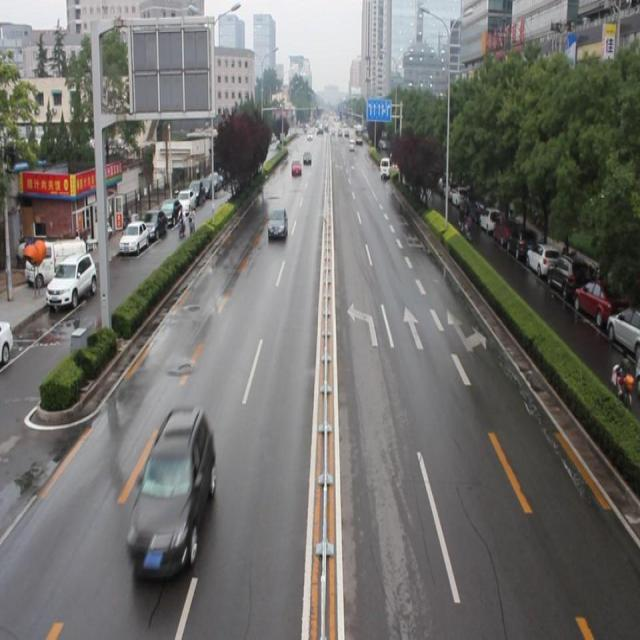car: (125, 410, 217, 574), (266, 205, 288, 238), (290, 157, 301, 176)
truck: (378, 154, 390, 180)
